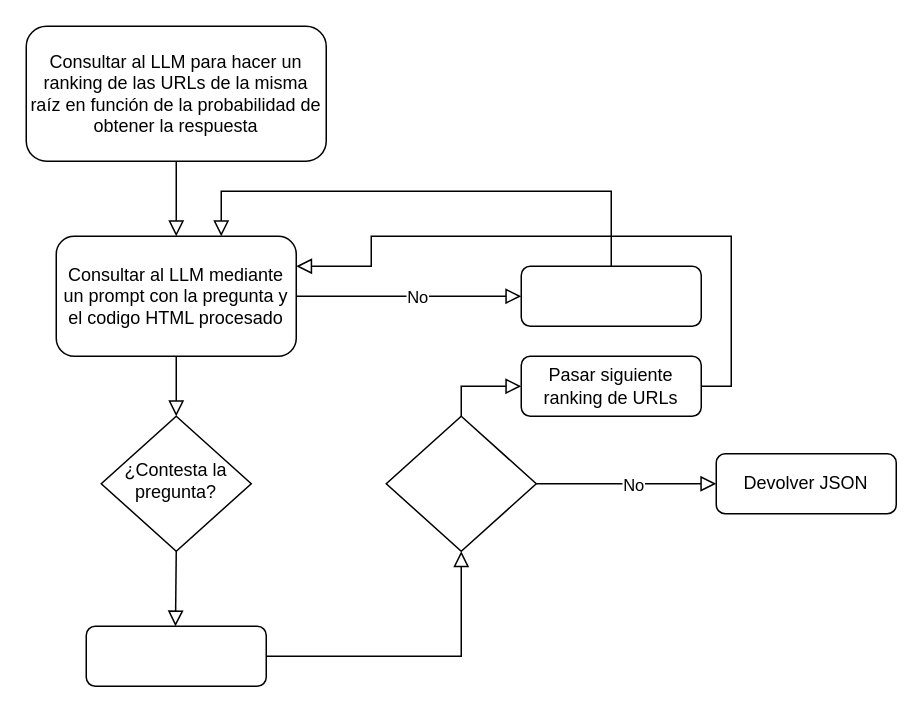
Image size: 923x713. Some labels were removed from this diagram. The shapes that lost their labels are listed below. From the top down, each one's centre as x and y in pixels, then its label:
At [610,295]: "Pasar siguiente HTML".
At [460,483]: "¿Hay más URLs raíz?".
At [175,655]: "Insertar en un JSON URL raíz y respuesta".
